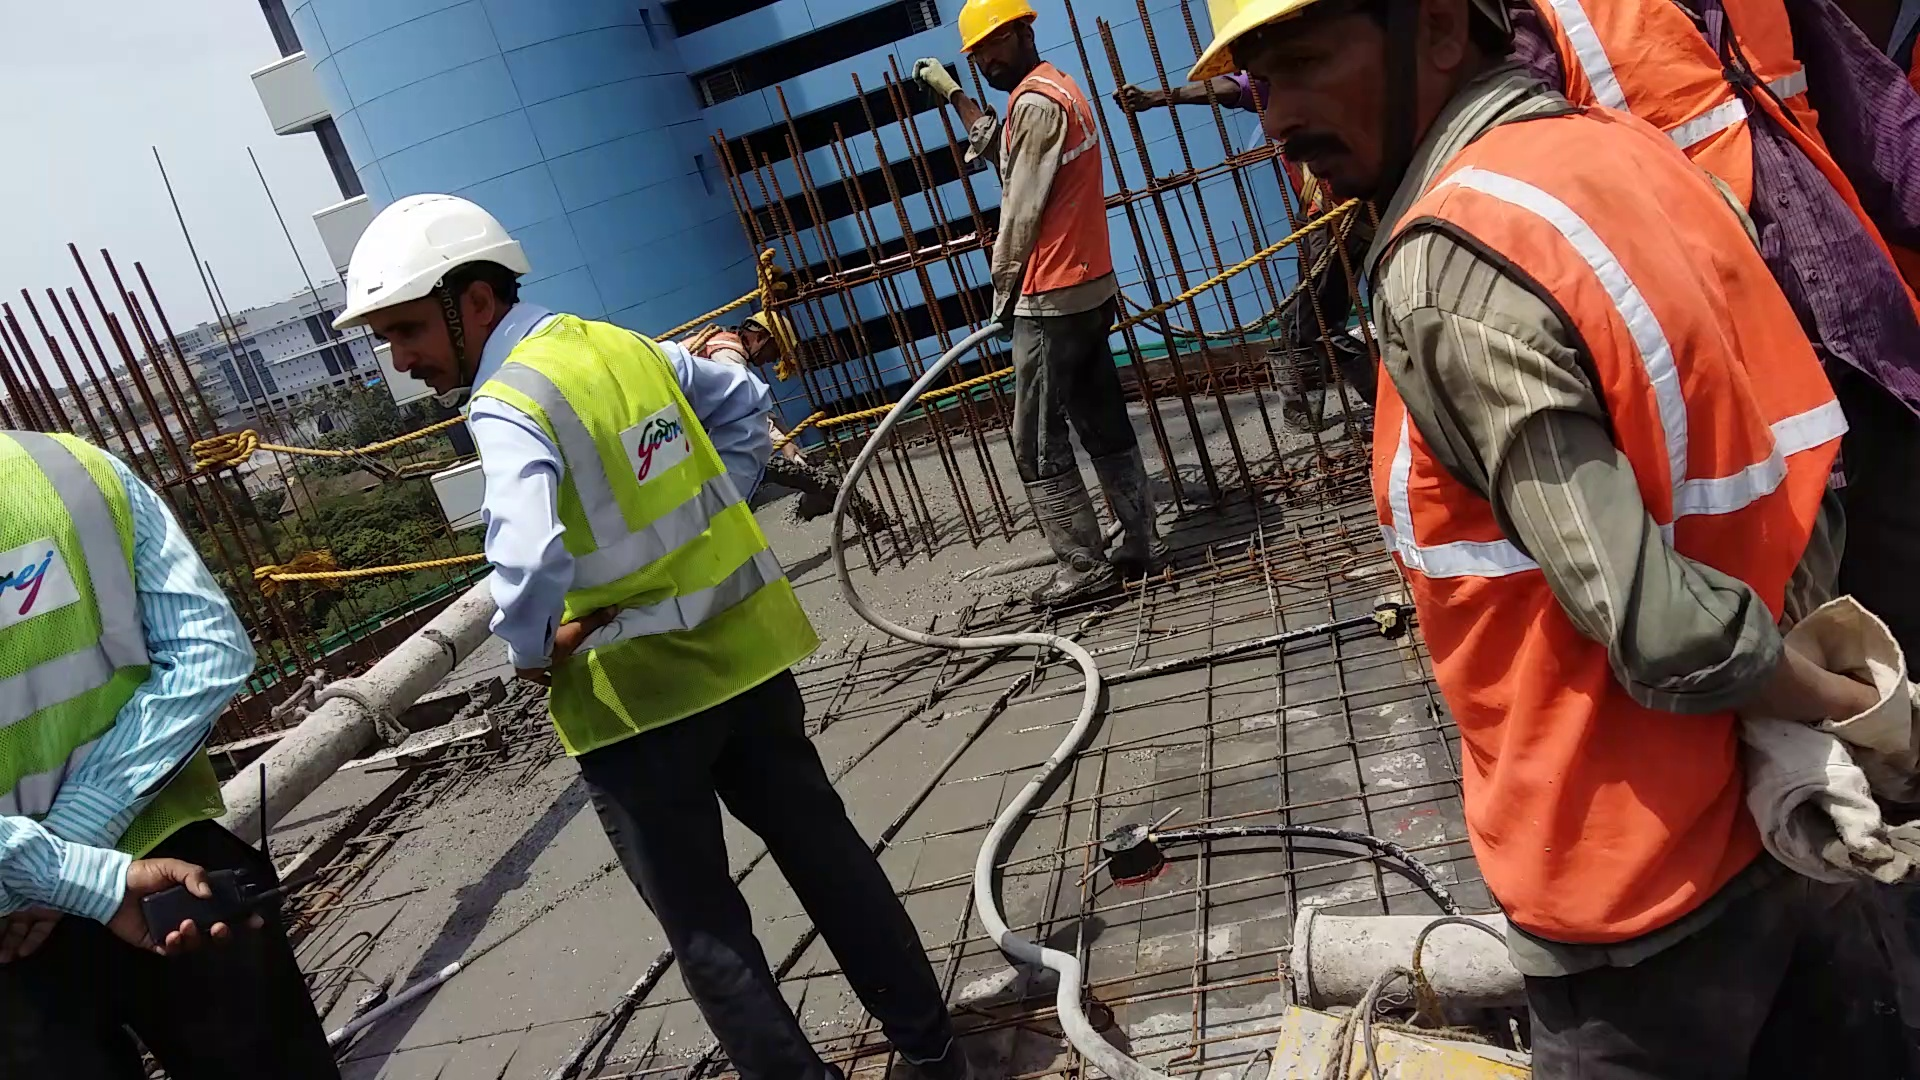SAFE: (1178, 3, 1853, 935), (371, 170, 822, 760), (957, 1, 1120, 311)
